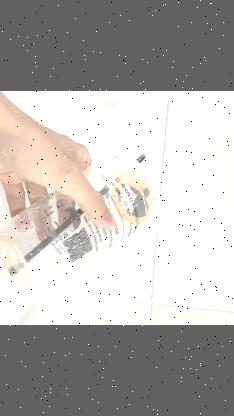Others: (0, 149, 160, 293)
